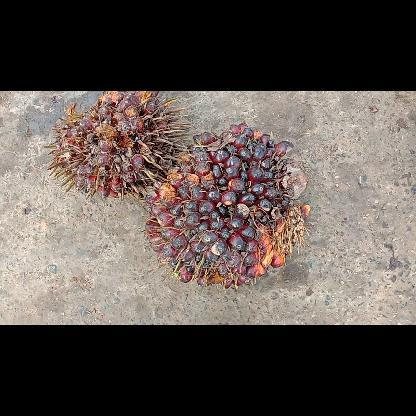Kurang masak: (141, 122, 308, 290)
TBS masak: (44, 90, 188, 200)
